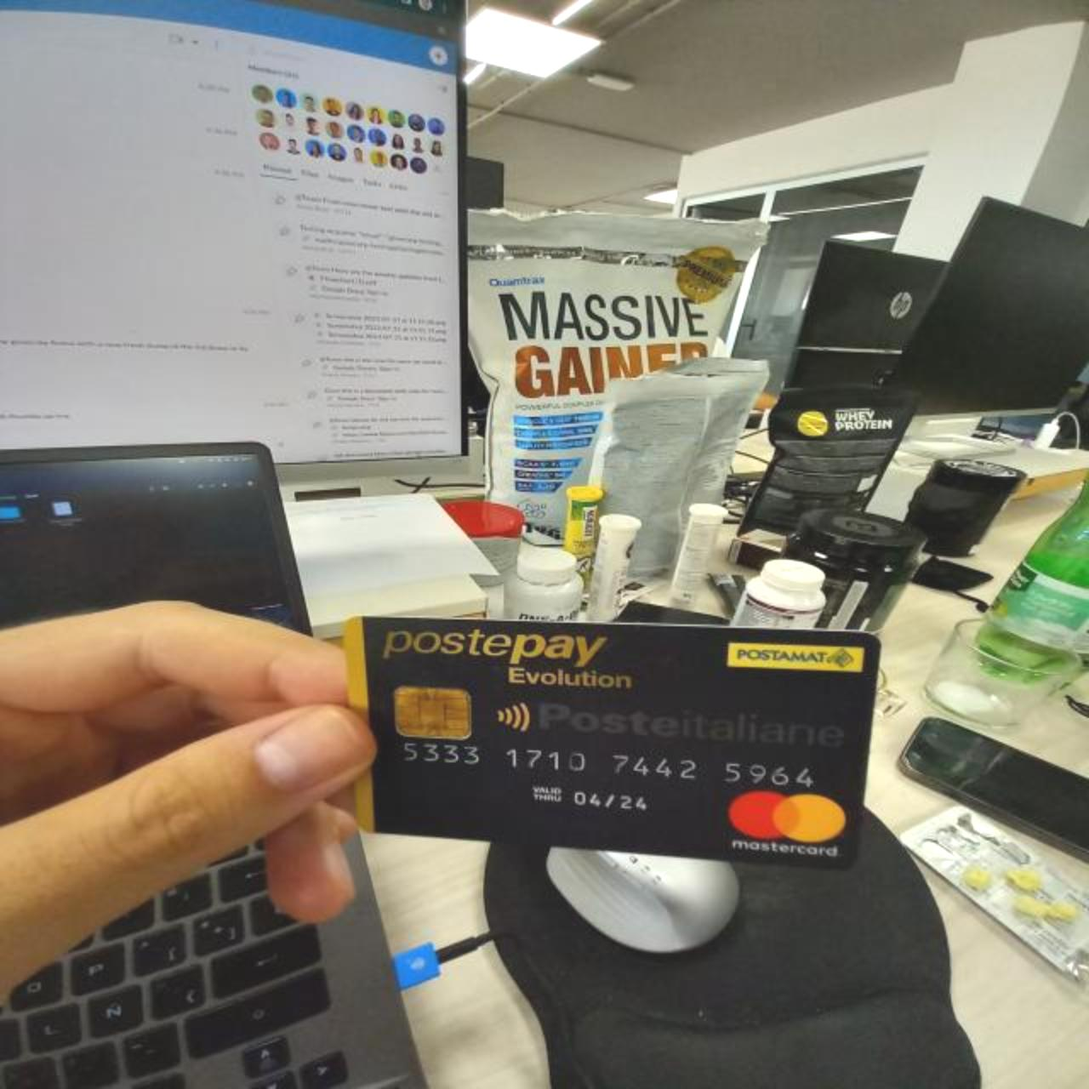credit_card: (345, 616, 883, 873)
